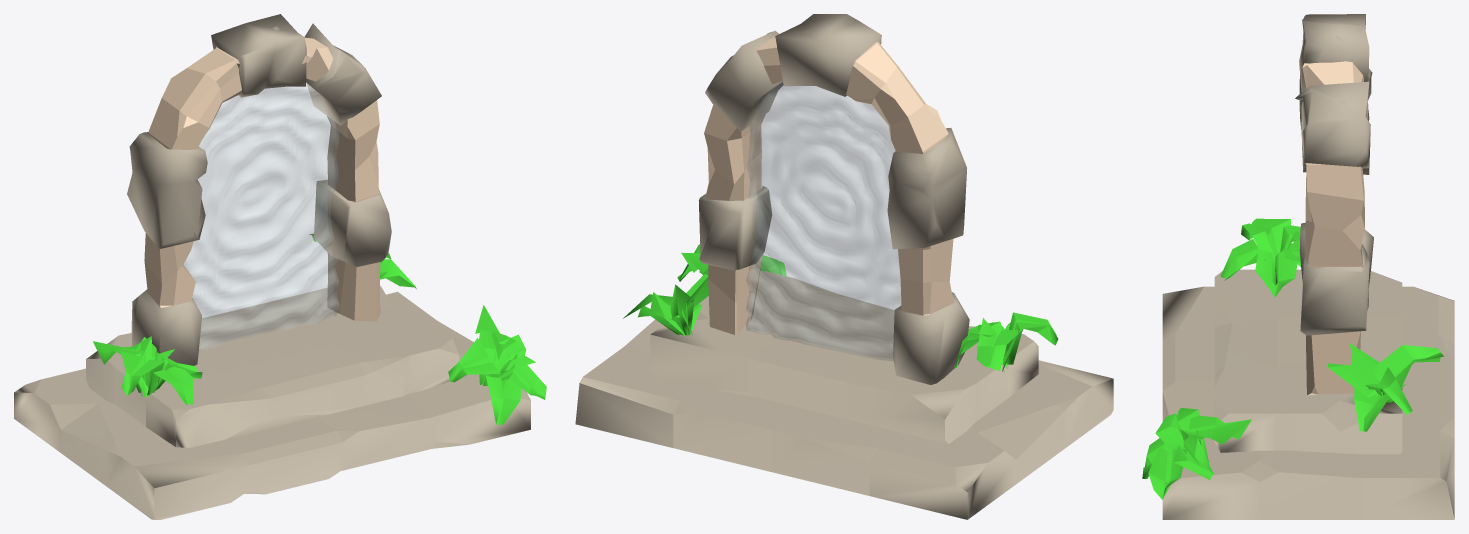
Rendered from portal.glb.
3 views of the same model, side by side, from view 1: azimuth 30°, elevation 25°; view 2: azimuth 150°, elevation 25°; view 3: azimuth 270°, elevation 25° (orthographic). The views are drawn at different scales.
Parts seen in each view (by area): view 1: Plane.002, Plane.003; view 2: Plane.002, Plane.003; view 3: Plane.002, Plane.003.
Boxes of the visible parts, x1=… form: Plane.002: x1=14, y1=233, x2=546, y2=519; Plane.003: x1=127, y1=14, x2=391, y2=365; Plane.002: x1=575, y1=244, x2=1113, y2=519; Plane.003: x1=698, y1=14, x2=969, y2=384; Plane.002: x1=1142, y1=218, x2=1454, y2=519; Plane.003: x1=1295, y1=14, x2=1373, y2=395.
Size of the model in its own units: 5.07 by 4.74 by 3.33.
